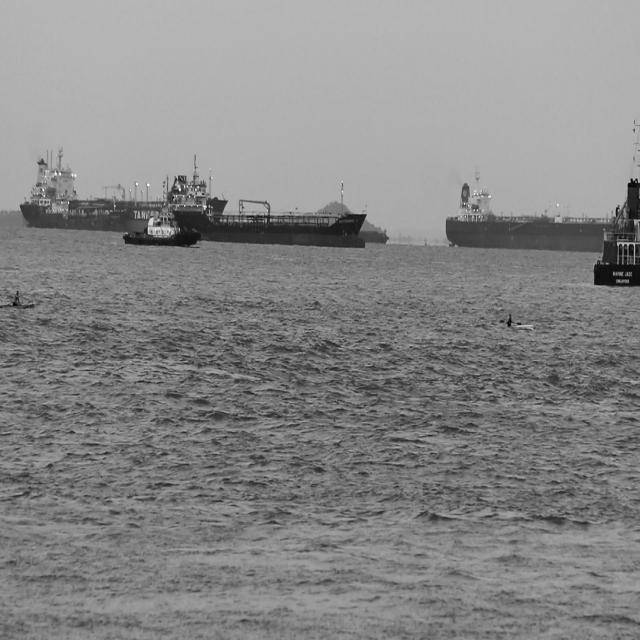ship: (157, 154, 366, 248), (444, 164, 612, 251), (18, 144, 163, 231), (591, 115, 639, 289), (121, 184, 200, 248), (356, 226, 389, 246)
